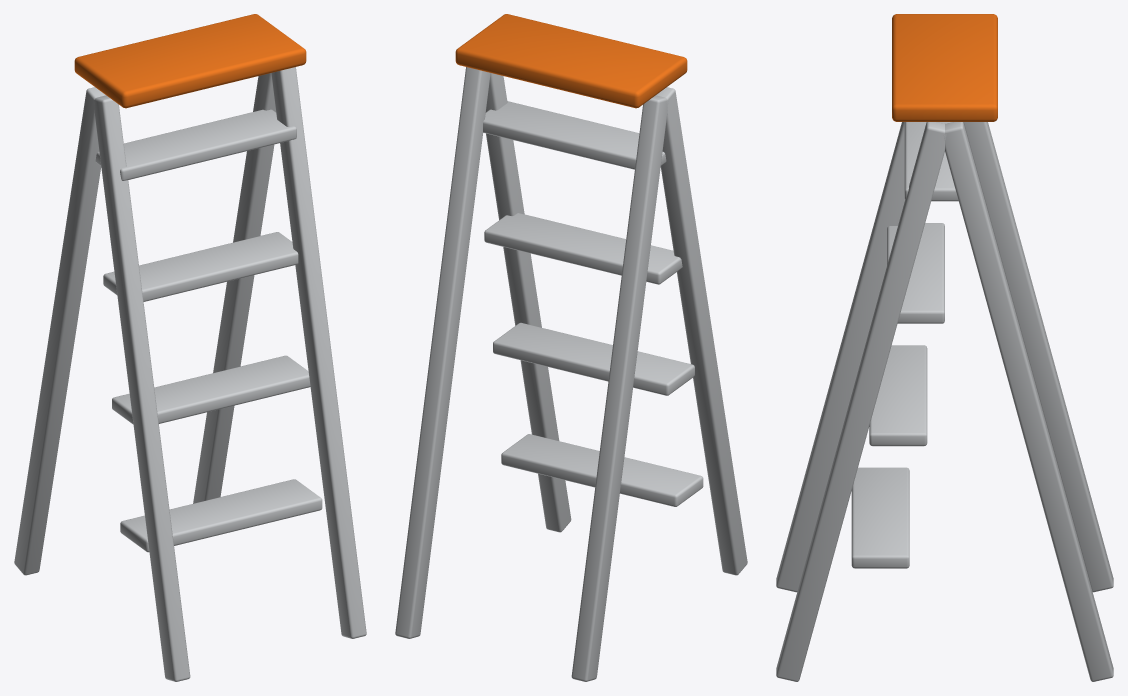
Rendered from stepladder.glb.
3 views of the same model, side by side, from view 1: azimuth 30°, elevation 25°; view 2: azimuth 150°, elevation 25°; view 3: azimuth 270°, elevation 25° (orthographic). The views are drawn at different scales.
Parts seen in each view (by area): view 1: stepladder; view 2: stepladder; view 3: stepladder.
Boxes of the visible parts, left/top/right/bottom form: stepladder: left=14, top=14, right=366, bottom=681; stepladder: left=395, top=14, right=747, bottom=681; stepladder: left=776, top=14, right=1113, bottom=681.
Size of the model in its own units: 0.48 by 1.32 by 0.7001.
